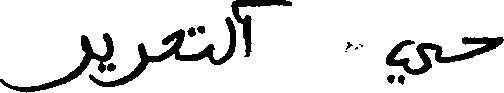X: (0, 30, 88, 92), (387, 35, 437, 89), (114, 38, 146, 91), (464, 32, 503, 64), (164, 24, 182, 65), (226, 0, 234, 65), (105, 28, 112, 91), (245, 0, 249, 61), (205, 39, 212, 68)
